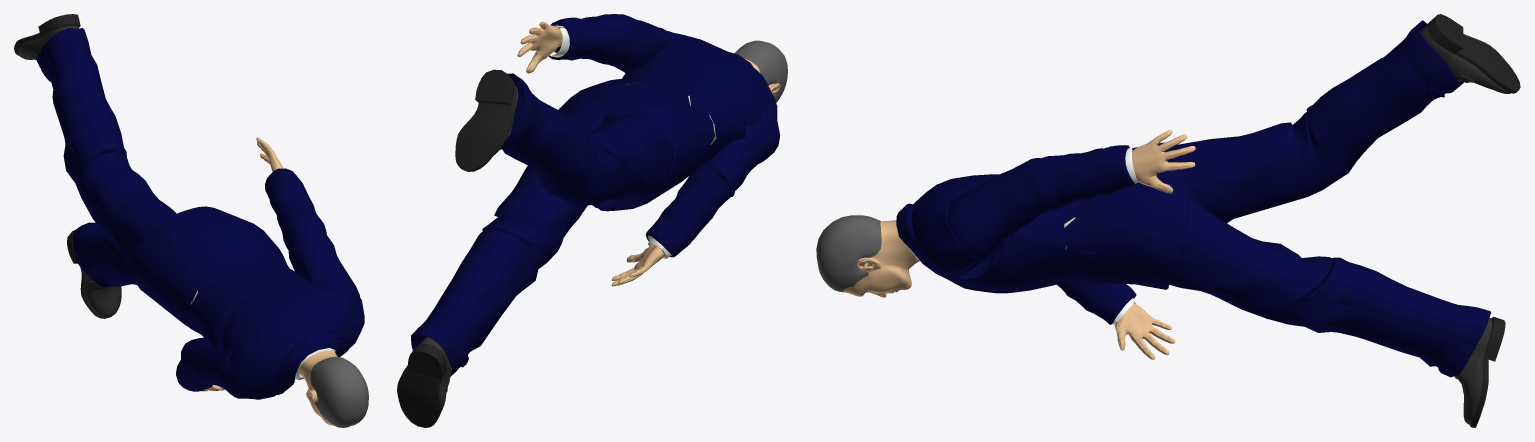
The model's file is Man_Pose021.obj.
3 renders of one model, left to right at view 1: azimuth 30°, elevation 25°; view 2: azimuth 150°, elevation 25°; view 3: azimuth 270°, elevation 25°, orthographic. The views are drawn at different scales.
Parts seen in each view (by area): view 1: Object__0; view 2: Object__0; view 3: Object__0.
Boxes of the visible parts, bbox=[...] form: Object__0: bbox=[14, 14, 368, 427]; Object__0: bbox=[397, 14, 787, 427]; Object__0: bbox=[816, 14, 1520, 427].
Bounding box in the file's own units: 0.1878 × 0.409 × 0.691.
